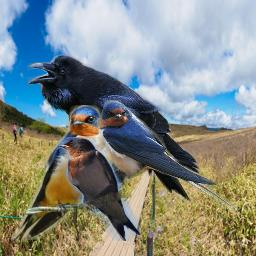Crow: (27, 54, 201, 204)
Swallow: (96, 100, 238, 213), (11, 105, 117, 243), (59, 137, 140, 241)
